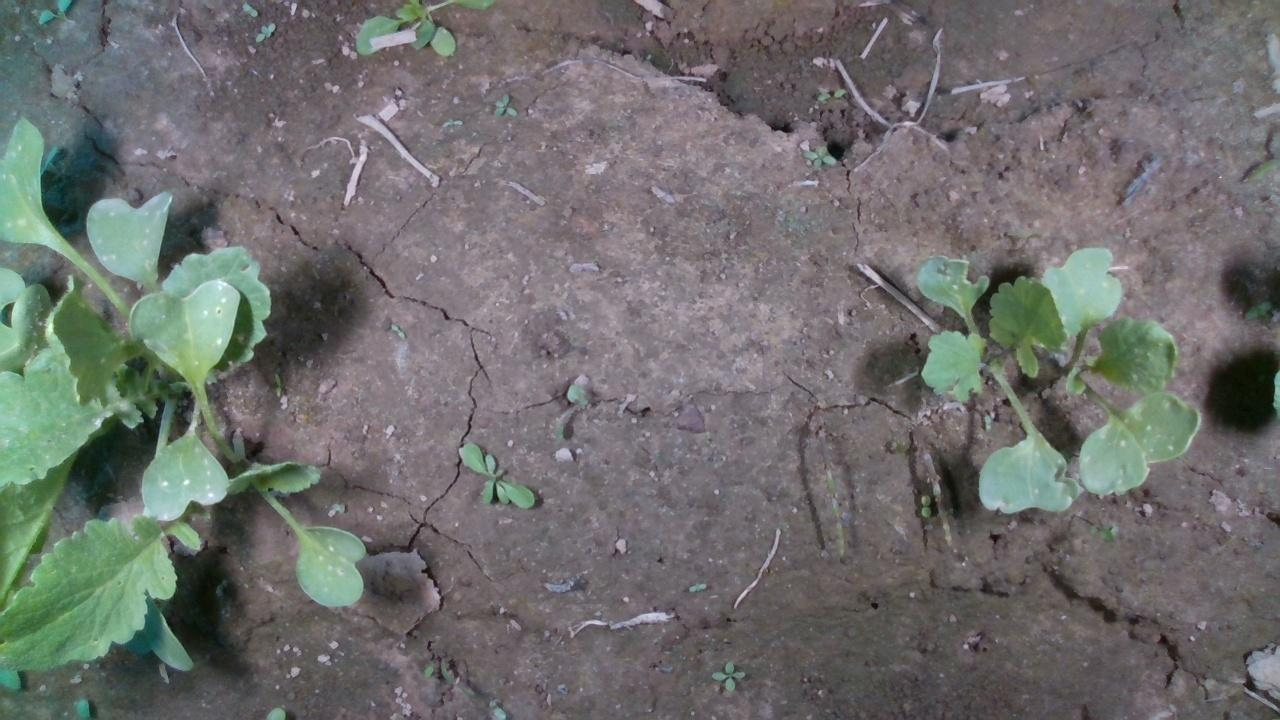weed: (708, 659, 745, 691), (802, 142, 836, 167), (491, 91, 517, 115), (814, 86, 847, 101), (253, 20, 275, 42), (389, 321, 406, 341), (271, 371, 283, 398), (919, 493, 931, 517), (240, 1, 258, 17)
